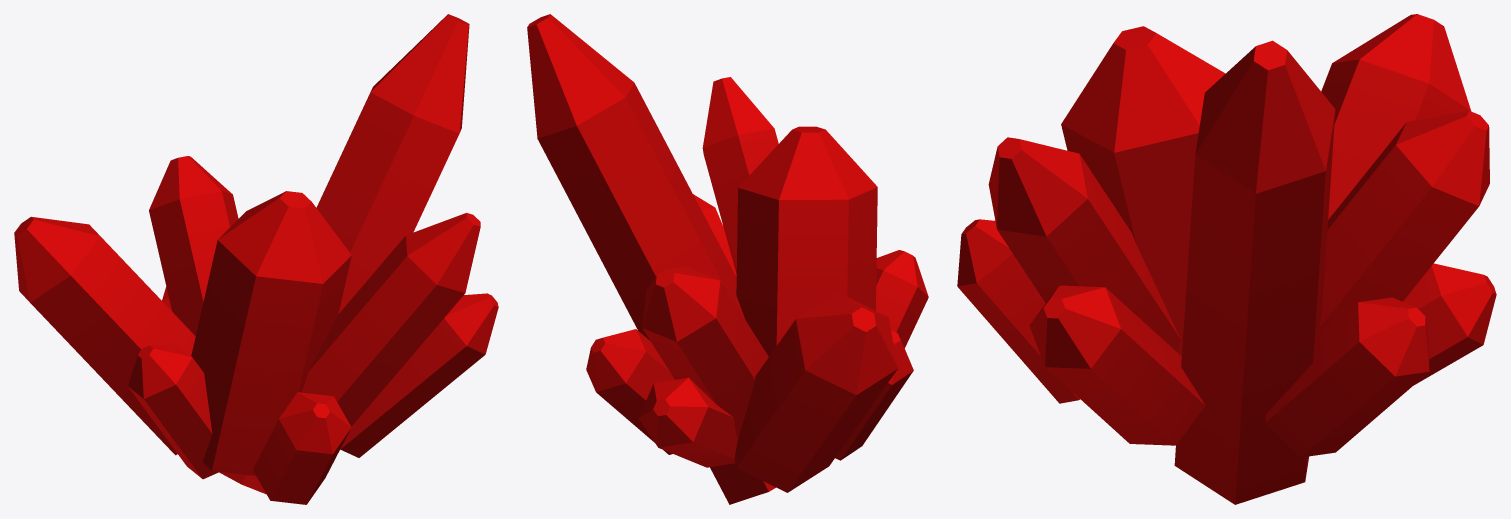
Rendered from geology-crystals-coloredcrystalcluster_v2.fbx.
3 renders of one model, left to right at view 1: azimuth 30°, elevation 25°; view 2: azimuth 150°, elevation 25°; view 3: azimuth 270°, elevation 25°, orthographic. The views are drawn at different scales.
Parts seen in each view (by area): view 1: ColoredCrystalCluster_v2; view 2: ColoredCrystalCluster_v2; view 3: ColoredCrystalCluster_v2.
Part boxes in pixels (x1,y1,x2,y2): ColoredCrystalCluster_v2: [14, 14, 498, 504]; ColoredCrystalCluster_v2: [527, 14, 928, 504]; ColoredCrystalCluster_v2: [957, 14, 1496, 504].
Bounding box in the file's own units: 8 × 8.22 × 6.96.
